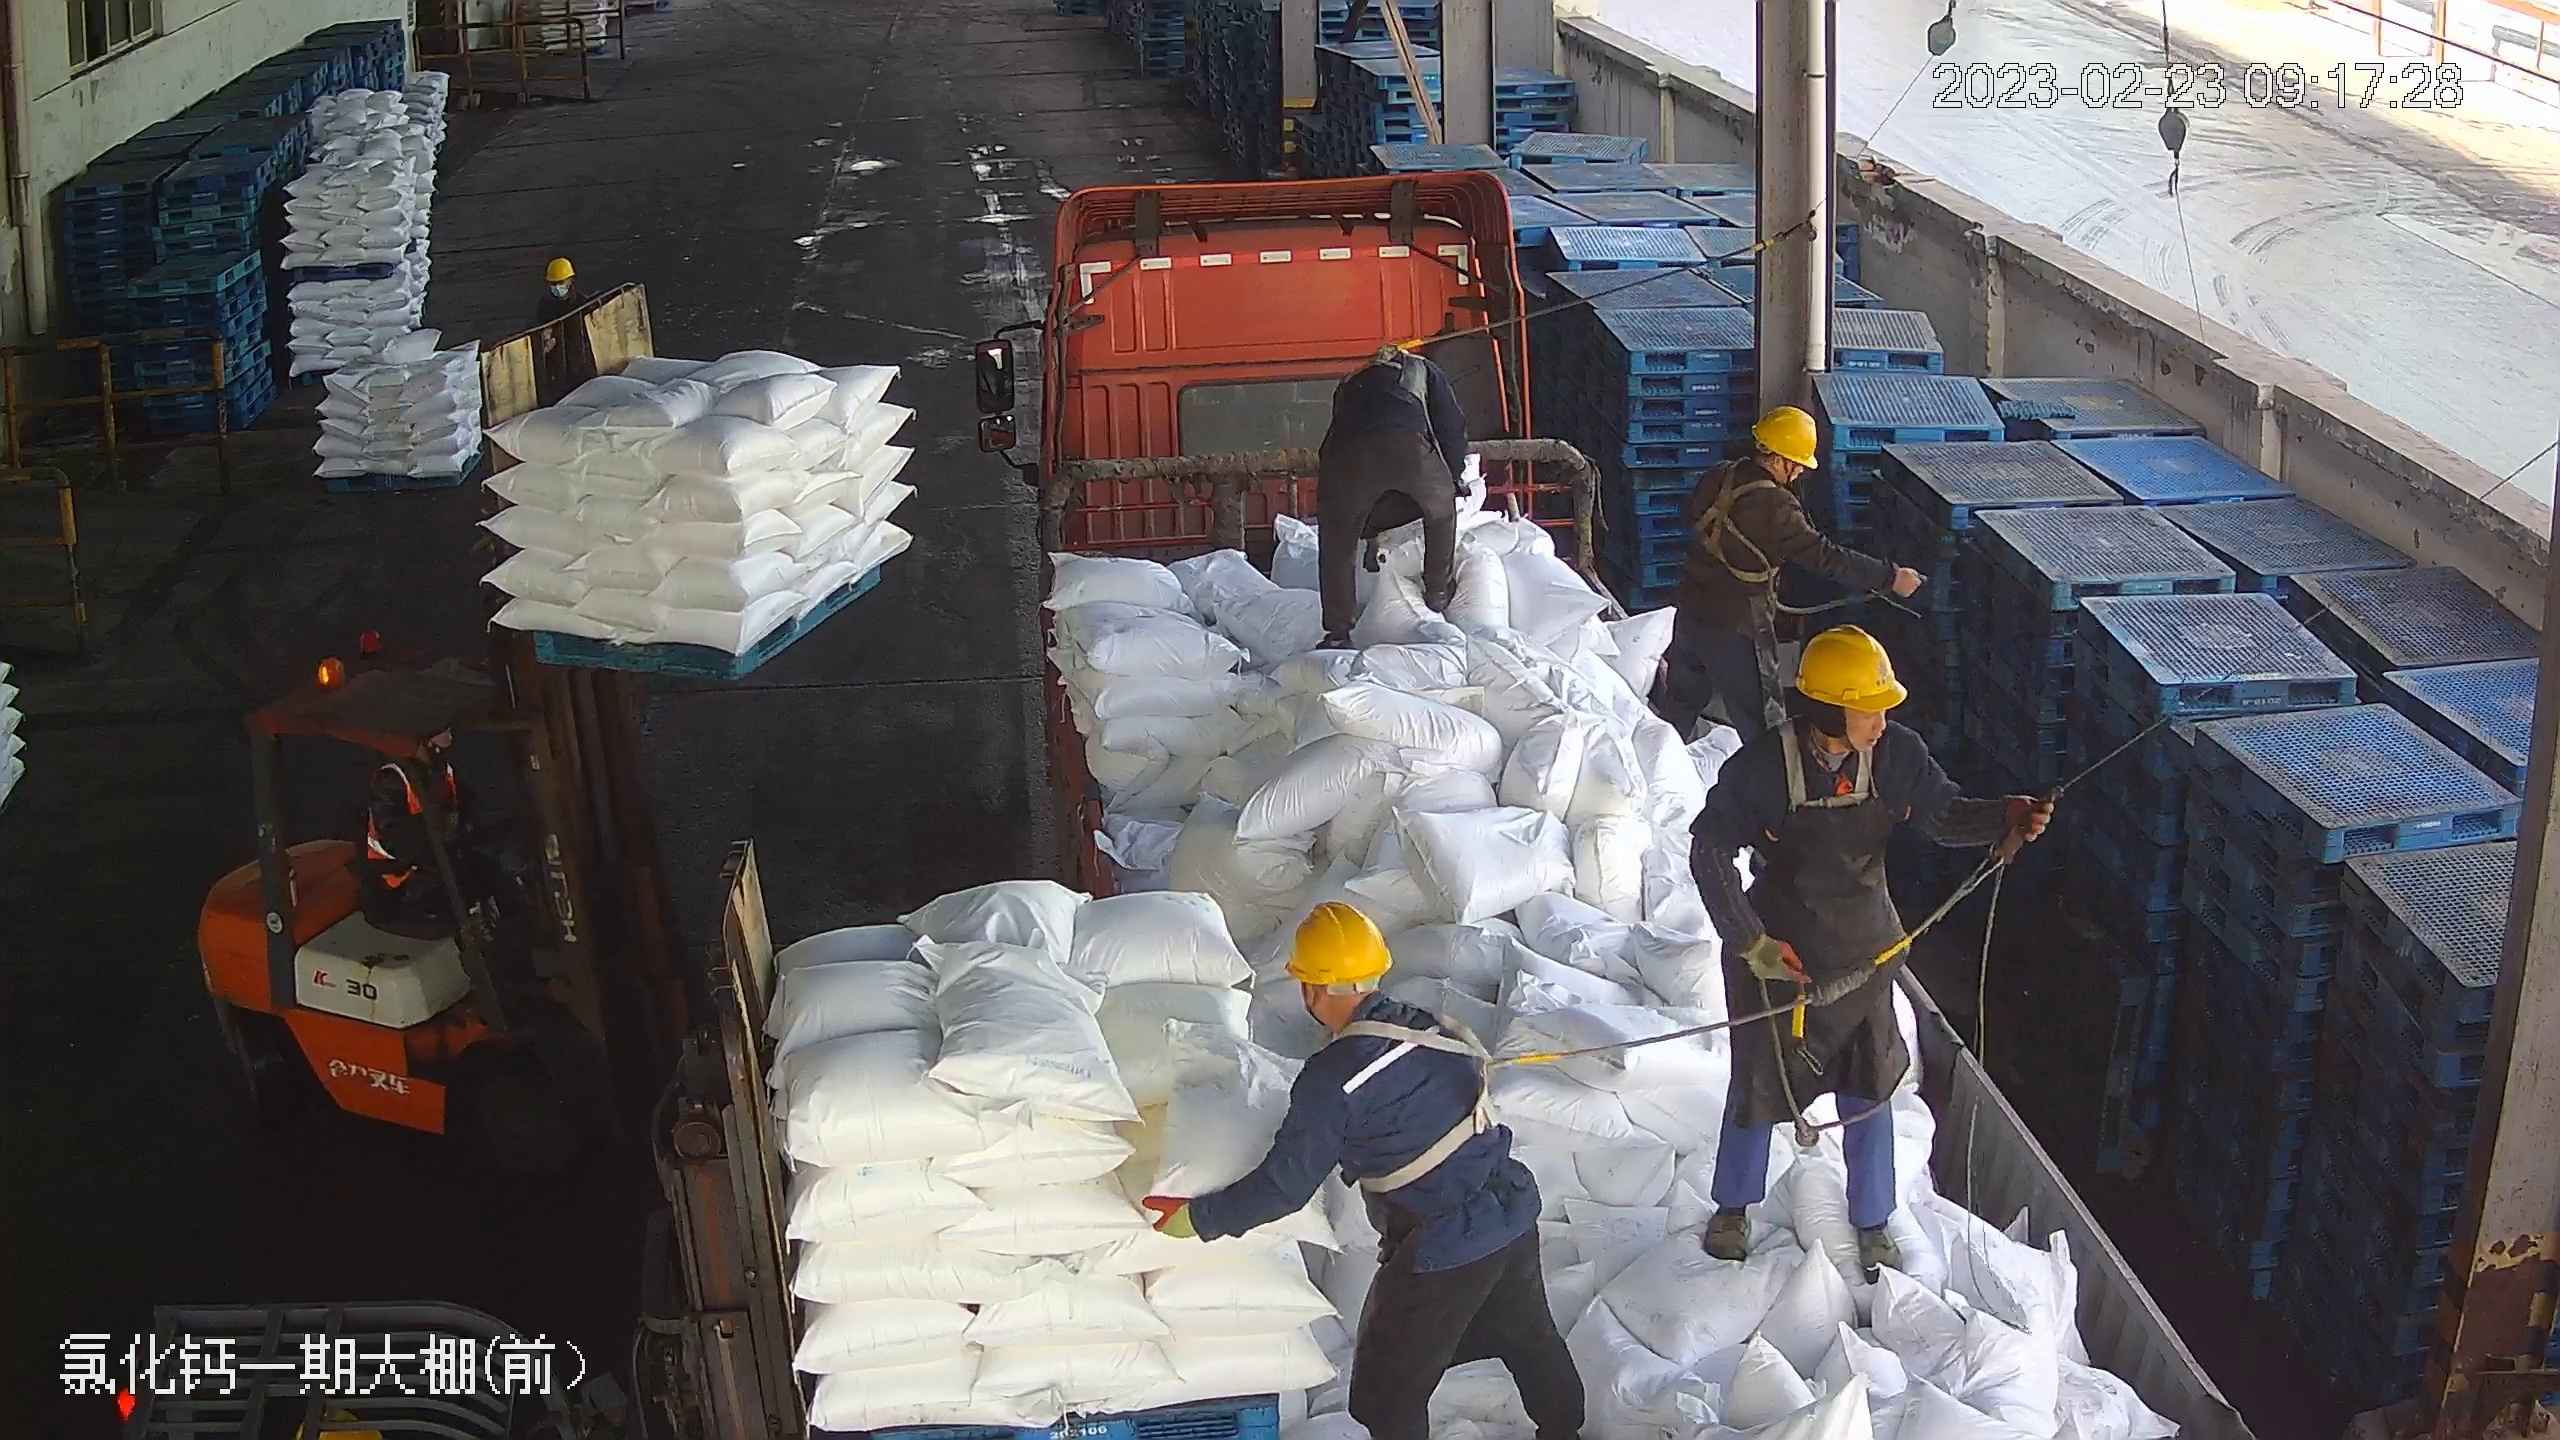belt: (1147, 904, 1587, 1438), (1353, 1018, 1554, 1193), (1686, 474, 1793, 581), (1772, 715, 1891, 808), (1362, 345, 1437, 413)
head: (1260, 900, 1474, 1124), (1720, 620, 1935, 835), (1704, 404, 1831, 542)
helmet: (1788, 622, 1915, 711), (1277, 898, 1397, 984), (1746, 401, 1824, 464), (539, 254, 575, 278)
people: (1146, 894, 1594, 1440), (1690, 619, 2039, 1287), (1649, 400, 1924, 754), (1310, 338, 1488, 653)
truck: (972, 167, 2258, 1433), (1720, 629, 1934, 840)
